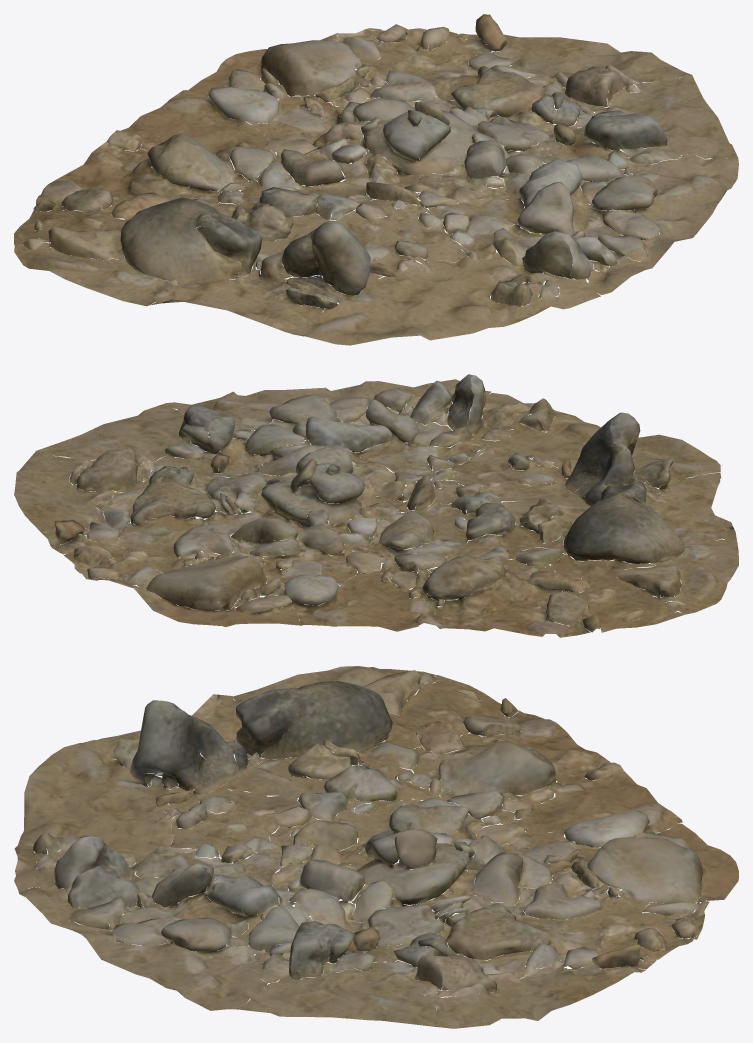
The model's file is sand_rocks_small_01.glb.
3 views of the same model, one above another, from view 1: azimuth 30°, elevation 25°; view 2: azimuth 150°, elevation 25°; view 3: azimuth 270°, elevation 25° (orthographic). The views are drawn at different scales.
Visible parts, largest first — view 1: sand_rocks_small_01_LOD0; view 2: sand_rocks_small_01_LOD0; view 3: sand_rocks_small_01_LOD0.
Part boxes in pixels (x1,y1,x2,y2): sand_rocks_small_01_LOD0: (14,14,738,345); sand_rocks_small_01_LOD0: (14,374,738,637); sand_rocks_small_01_LOD0: (14,666,738,1028).
Size of the model in its own units: 4.63 by 0.5371 by 3.88.
1 material, 1 textured.
